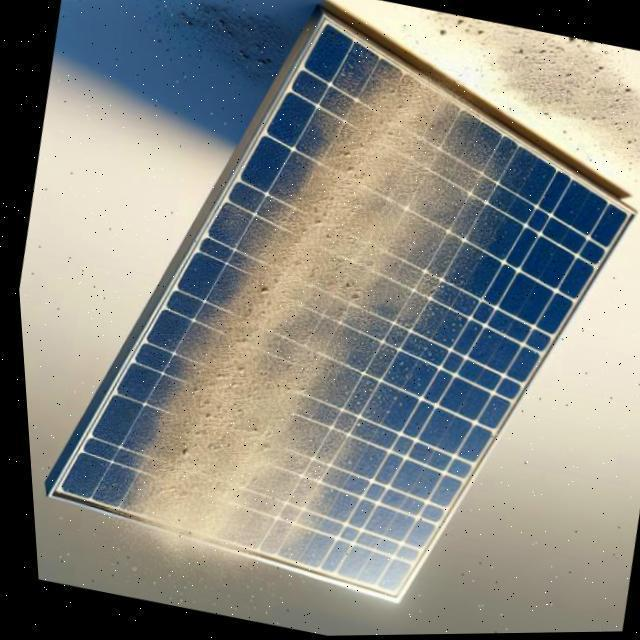Anomaly Solar Panel: (35, 23, 627, 637)
Surface Contaminant: (61, 28, 553, 618)
